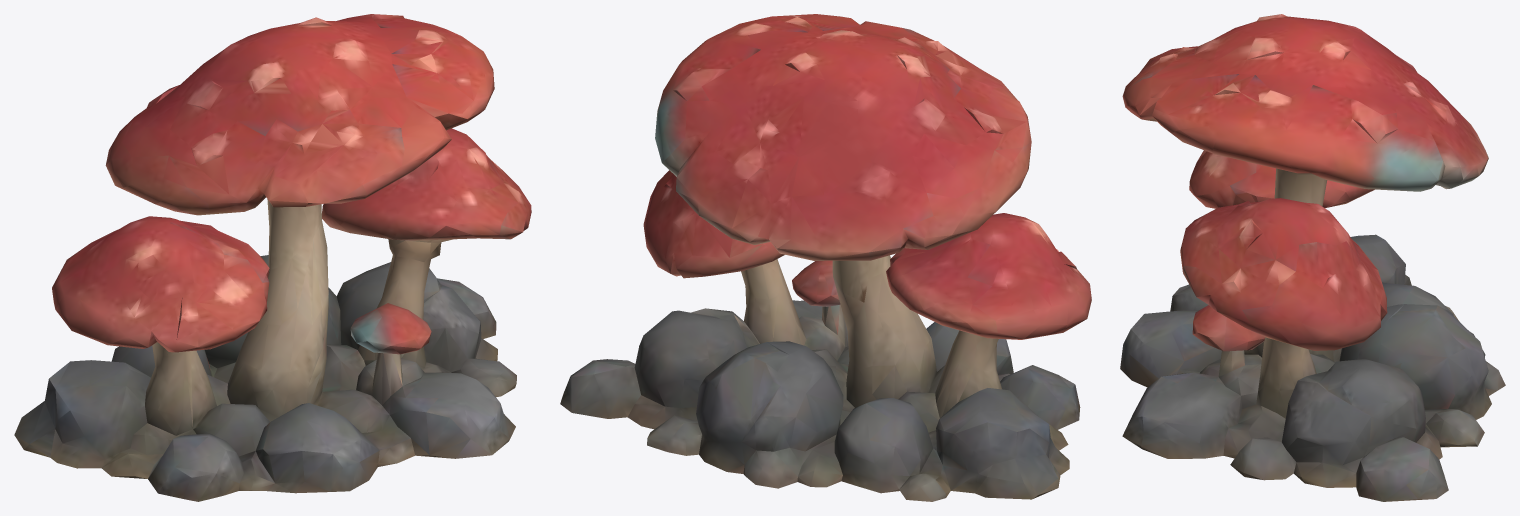
Rendered from setas_rojas_3000.glb.
3 views of the same model, side by side, from view 1: azimuth 30°, elevation 25°; view 2: azimuth 150°, elevation 25°; view 3: azimuth 270°, elevation 25° (orthographic). The views are drawn at different scales.
Parts seen in each view (by area): view 1: setas_rojas_malla; view 2: setas_rojas_malla; view 3: setas_rojas_malla.
Part boxes in pixels (x1,y1,x2,y2): setas_rojas_malla: (14,14,531,501); setas_rojas_malla: (560,14,1091,501); setas_rojas_malla: (1120,14,1505,501).
Bounding box in the file's own units: 0.2694 × 0.1986 × 0.1921.
1 material, 1 textured.
